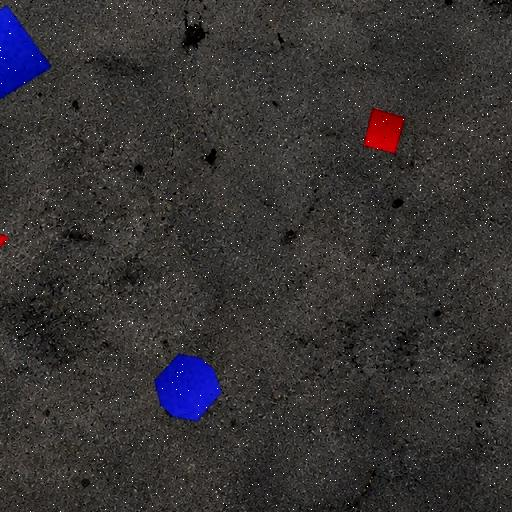BLUE_SQUARE: (0, 4, 53, 110)
RED_SQUARE: (363, 108, 406, 154)
